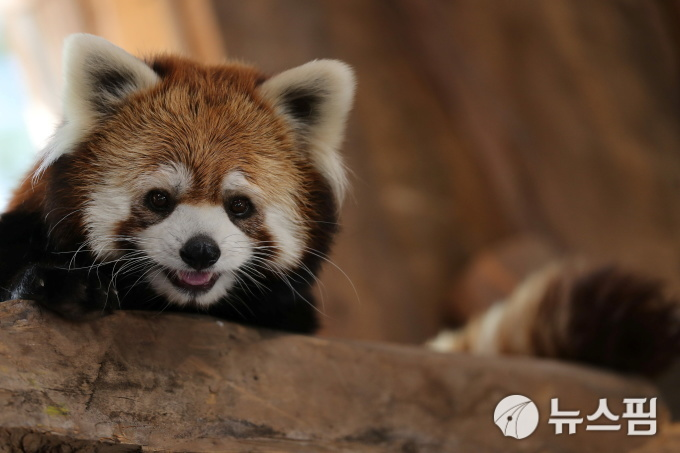redPanda: (6, 22, 376, 321)
